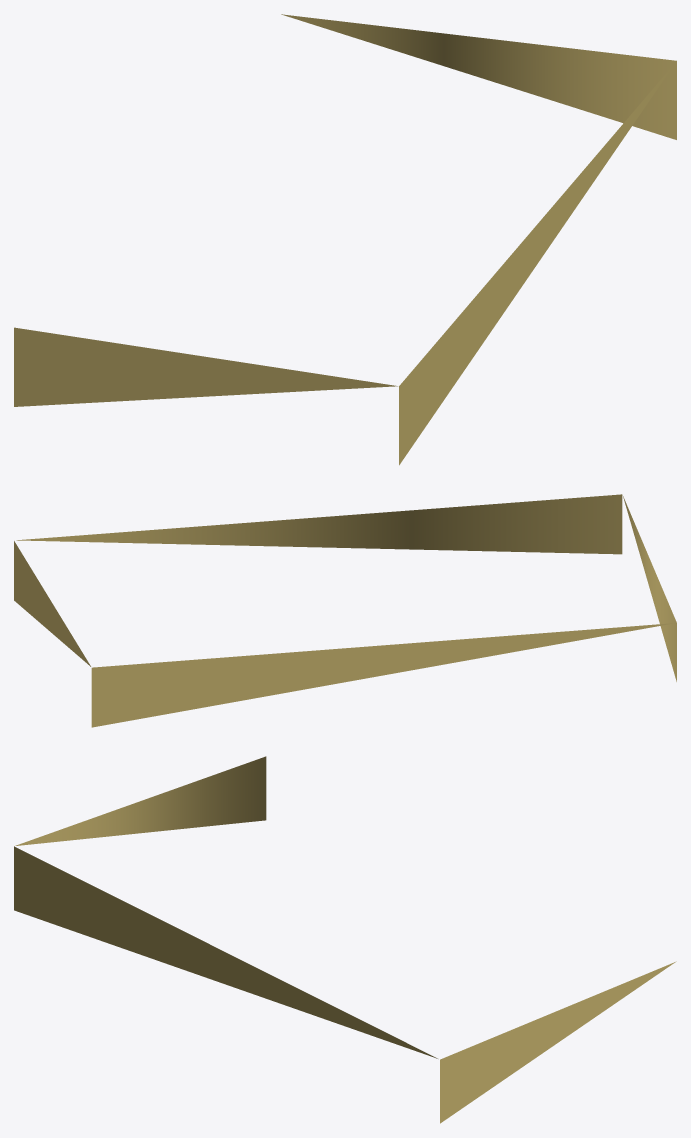
3 renders of one model, top to bottom at view 1: azimuth 30°, elevation 25°; view 2: azimuth 150°, elevation 25°; view 3: azimuth 270°, elevation 25°, orthographic. The views are drawn at different scales.
Bounding box in the file's own units: 25.36 × 2.5 × 23.42.
